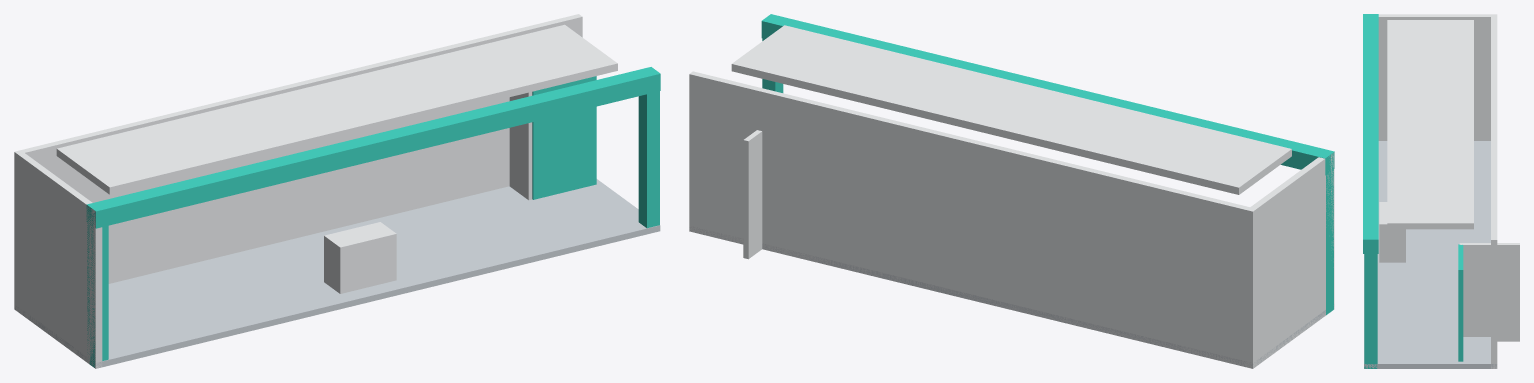
3 renders of one model, left to right at view 1: azimuth 30°, elevation 25°; view 2: azimuth 150°, elevation 25°; view 3: azimuth 270°, elevation 25°, orthographic. The views are drawn at different scales.
Visible parts, largest first — view 1: Exhibition Booth Concept; view 2: Exhibition Booth Concept; view 3: Exhibition Booth Concept.
Part boxes in pixels (left/top/right/bottom): Exhibition Booth Concept: left=14, top=14, right=660, bottom=368; Exhibition Booth Concept: left=689, top=14, right=1334, bottom=368; Exhibition Booth Concept: left=1363, top=14, right=1519, bottom=368.
Size of the model in its own units: 12 by 3.34 by 3.52.
